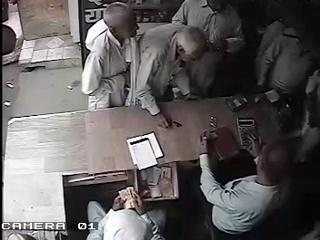Normal: (198, 131, 294, 240), (134, 23, 207, 128), (254, 2, 319, 96), (190, 0, 250, 99), (87, 187, 165, 240), (171, 0, 212, 30)
shoplifting: (81, 2, 140, 111)
